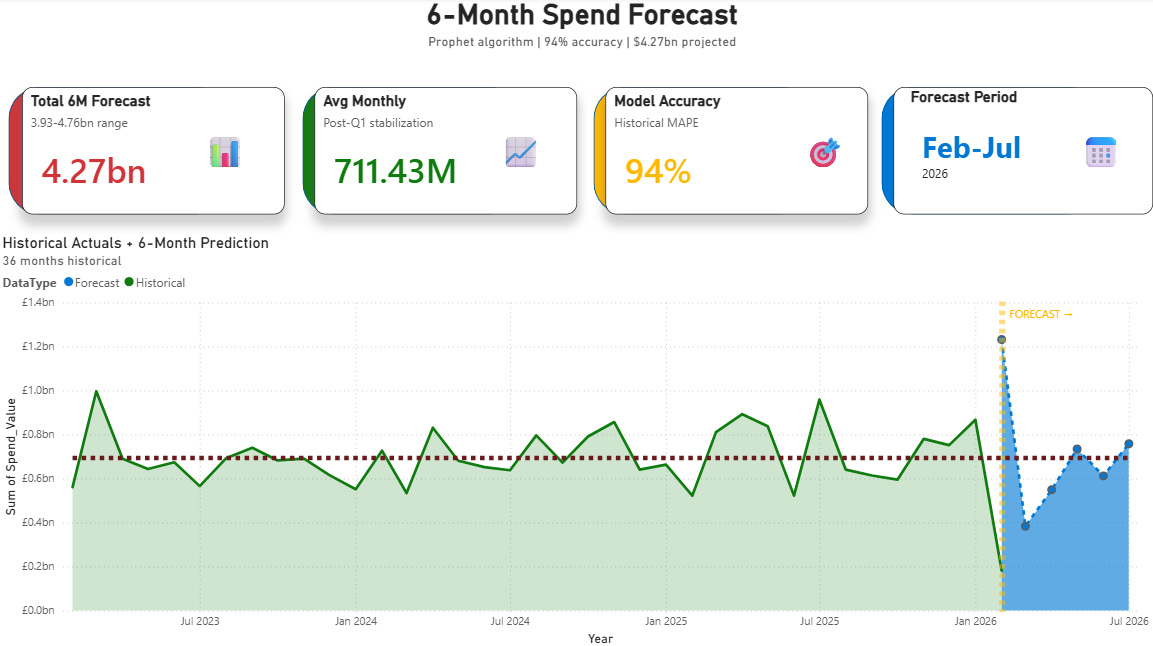

This screenshot's page, from the dashboard's own definition file:
{"tool":"powerbi","page":{"name":"Forecast","canvas":[1280,720],"ordinal":3},"visuals":[{"type":"shape","box":[975.7,99.4,241.8,140.8],"z":0},{"type":"shape","box":[657.6,99.4,241.8,140.8],"z":1000},{"type":"shape","box":[336.3,99.4,241.8,140.8],"z":2000},{"type":"shape","title":"6-Month Spend Forecast","box":[9.9,0,1270.5,87.8],"z":3000},{"type":"shape","box":[11,99.4,241.8,140.8],"z":4000},{"type":"cardVisual","title":"Total 6M Forecast","fields":{"Data":["monthly_procurement_summary.Total_6M_Forecast"]},"box":[26.5,99.4,289.9,140.8],"z":5000},{"type":"shape","box":[220.3,137.5,61.3,64.6],"z":6000},{"type":"cardVisual","title":"Avg Monthly","fields":{"Data":["monthly_procurement_summary.Avg_Monthly_Forecast"]},"box":[349.5,99.4,289.9,140.8],"z":7000},{"type":"cardVisual","title":"Model Accuracy","fields":{"Data":["monthly_procurement_summary.Model_Accuracy"]},"box":[671,99.4,289.9,140.8],"z":8000},{"type":"shape","box":[882.9,137.5,61.3,64.6],"z":9000},{"type":"shape","box":[546.6,137.5,61.3,64.6],"z":10000},{"type":"textbox","title":"   Forecast Period","box":[989,99.4,286.6,140.8],"z":11000},{"type":"shape","box":[1187.7,137.5,61.3,64.6],"z":12000},{"type":"textbox","box":[1015.4,137.5,160.7,77.9],"z":13000},{"type":"lineChart","title":"Historical Actuals + 6-Month Prediction","fields":{"Category":["combined_chart_data.Month.Variation.Date Hierarchy.Year","combined_chart_data.Month.Variation.Date Hierarchy.Quarter","combined_chart_data.Month.Variation.Date Hierarchy.Month"],"Series":["combined_chart_data.DataType"],"Y":["Sum(combined_chart_data.Spend_Value)"]},"box":[0,261.7,1275.5,458.8],"z":14001}]}

Visuals, with their boxes in screenshot pixels (x1, y1, x2, y2), scaled from the page's 1280x720 canvas onto the 1153x646 screenshot:
shape: {"left": 879, "top": 89, "right": 1097, "bottom": 216}
shape: {"left": 592, "top": 89, "right": 810, "bottom": 216}
shape: {"left": 303, "top": 89, "right": 521, "bottom": 216}
"6-Month Spend Forecast" shape: {"left": 9, "top": 0, "right": 1152, "bottom": 79}
shape: {"left": 10, "top": 89, "right": 228, "bottom": 216}
"Total 6M Forecast" cardVisual: {"left": 24, "top": 89, "right": 285, "bottom": 216}
shape: {"left": 198, "top": 123, "right": 254, "bottom": 181}
"Avg Monthly" cardVisual: {"left": 315, "top": 89, "right": 576, "bottom": 216}
"Model Accuracy" cardVisual: {"left": 604, "top": 89, "right": 866, "bottom": 216}
shape: {"left": 795, "top": 123, "right": 851, "bottom": 181}
shape: {"left": 492, "top": 123, "right": 548, "bottom": 181}
"   Forecast Period" textbox: {"left": 891, "top": 89, "right": 1149, "bottom": 216}
shape: {"left": 1070, "top": 123, "right": 1125, "bottom": 181}
textbox: {"left": 915, "top": 123, "right": 1059, "bottom": 193}
"Historical Actuals + 6-Month Prediction" lineChart: {"left": 0, "top": 235, "right": 1149, "bottom": 645}
